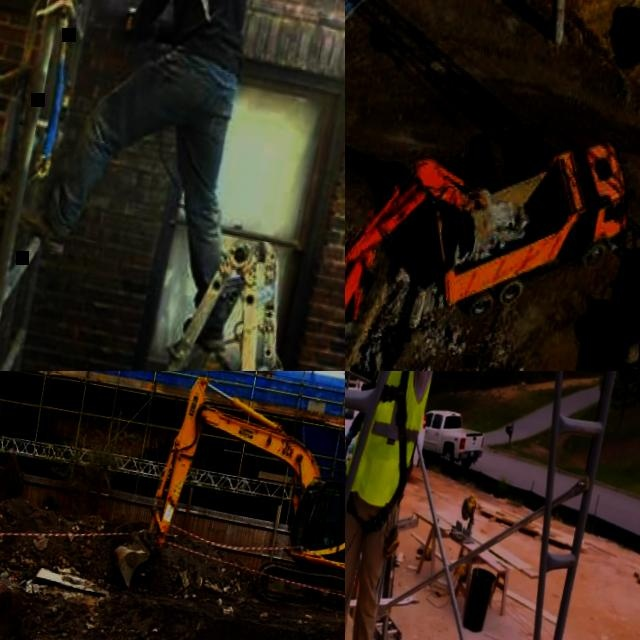NO-Safety Vest: (156, 0, 271, 82)
Person: (0, 0, 313, 353), (345, 371, 471, 640)
Safety Vest: (345, 371, 440, 512)
machinery: (105, 371, 345, 634), (407, 105, 640, 350), (345, 127, 505, 371)
vehicle: (345, 372, 431, 480), (416, 407, 488, 469)
